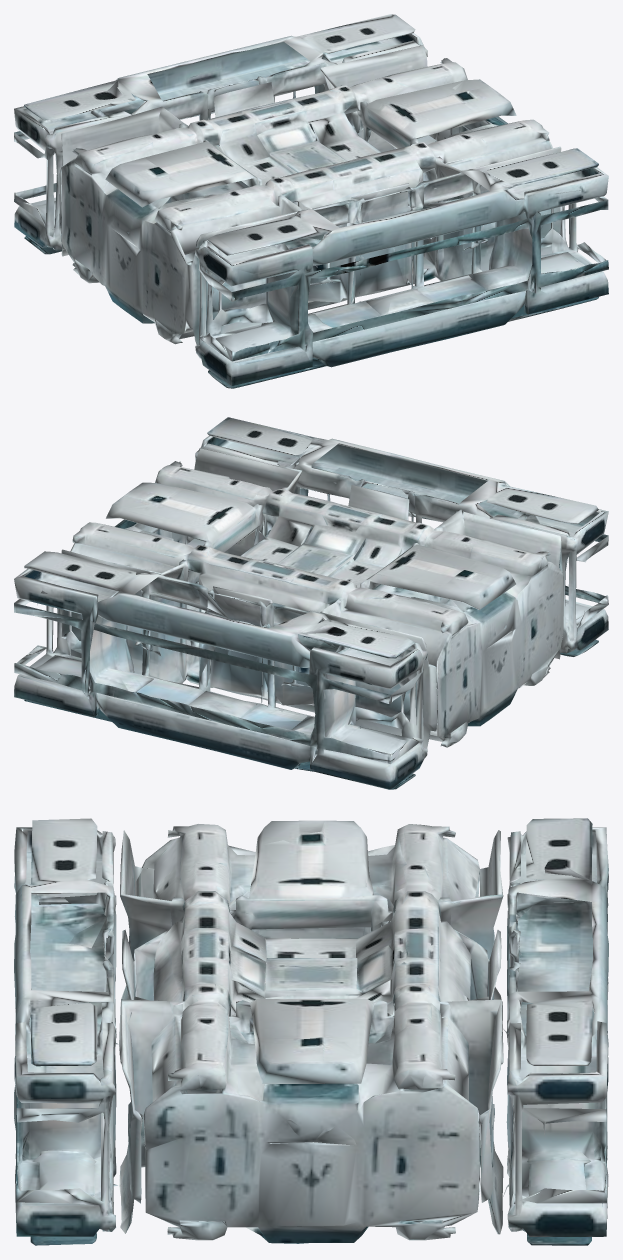
File: capital_crew_quarters.repacked.glb
The picture shows the model from 3 angles, top to bottom: view 1: azimuth 30°, elevation 25°; view 2: azimuth 150°, elevation 25°; view 3: azimuth 270°, elevation 25°; orthographic projection. The views are drawn at different scales.
Parts seen in each view (by area): view 1: Mesh1.0; view 2: Mesh1.0; view 3: Mesh1.0.
Part boxes in pixels (box(x1,y1,x2,y2)): Mesh1.0: box(14, 14, 608, 388); Mesh1.0: box(14, 417, 608, 789); Mesh1.0: box(14, 818, 608, 1245).
Bounding box in the file's own units: 1.91 × 0.6602 × 1.92.
1 material, 1 textured.
